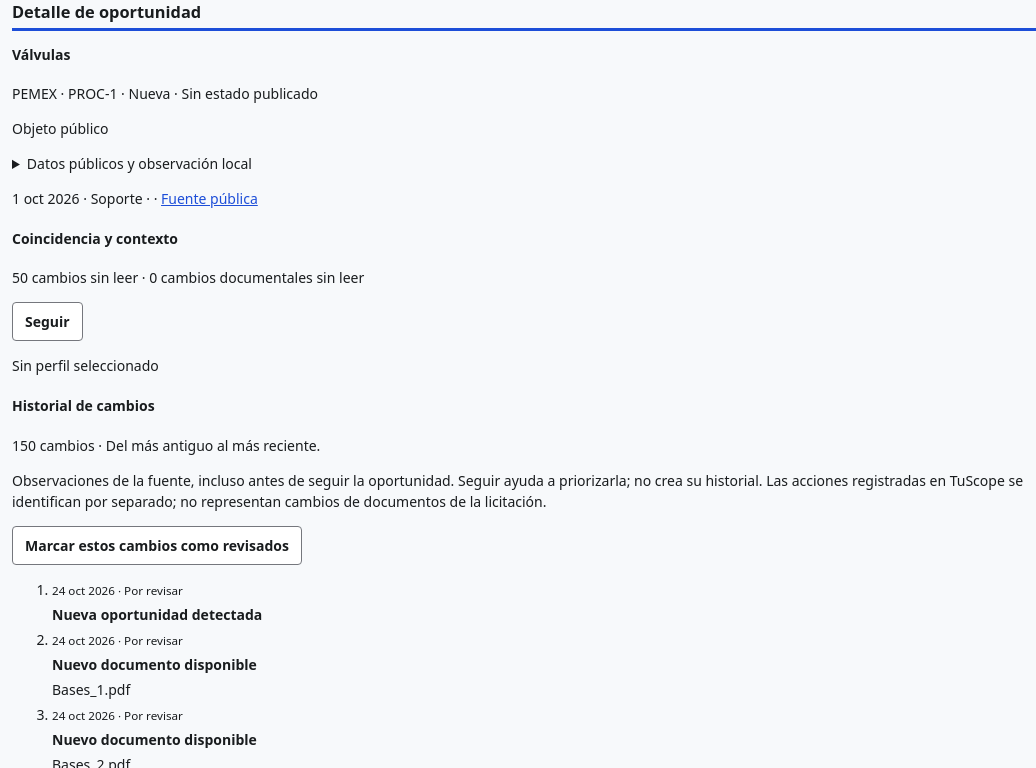
Test: 50 changes render one semantic list with bounded actions and human names, with no raw fields/codes
(page scrolled)
Expected: the text "Nueva oportunidad detectada" is shown, [52,605,262,624]
Click the button "Marcar estos cambios como revisados" at (157, 545), box [12,526,302,565]
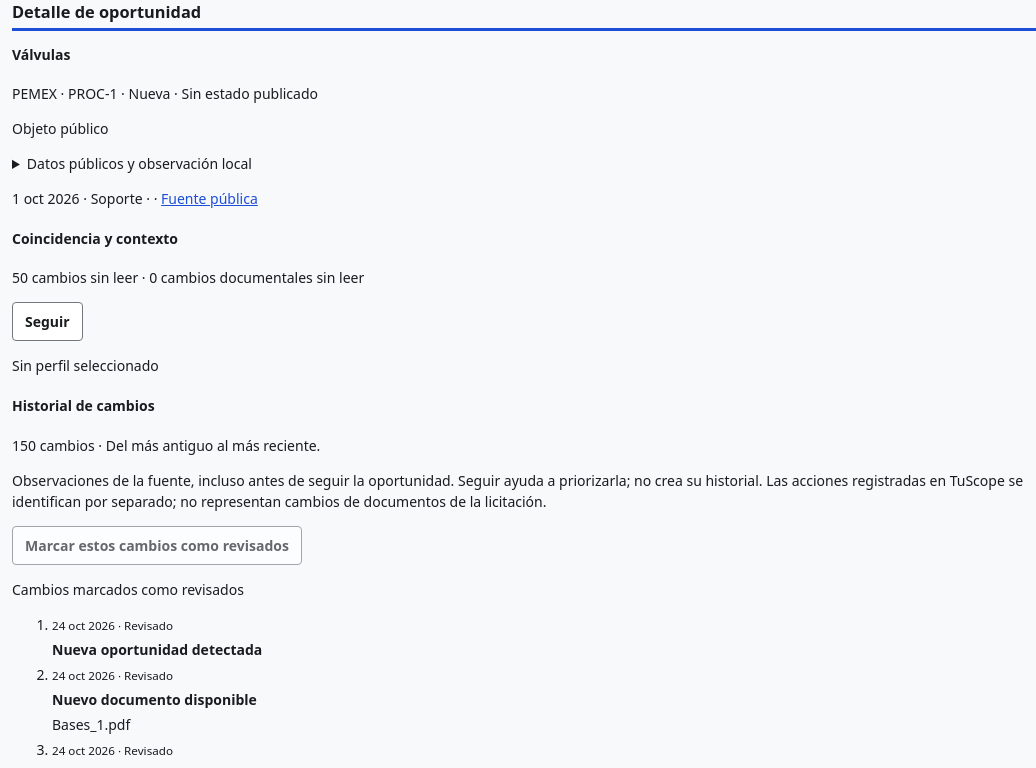
Expected: the text "Cambios marcados como revisados" is shown, [12,580,244,599]
Expected: the button "Marcar estos cambios como revisados" is disabled, [12,526,302,565]
